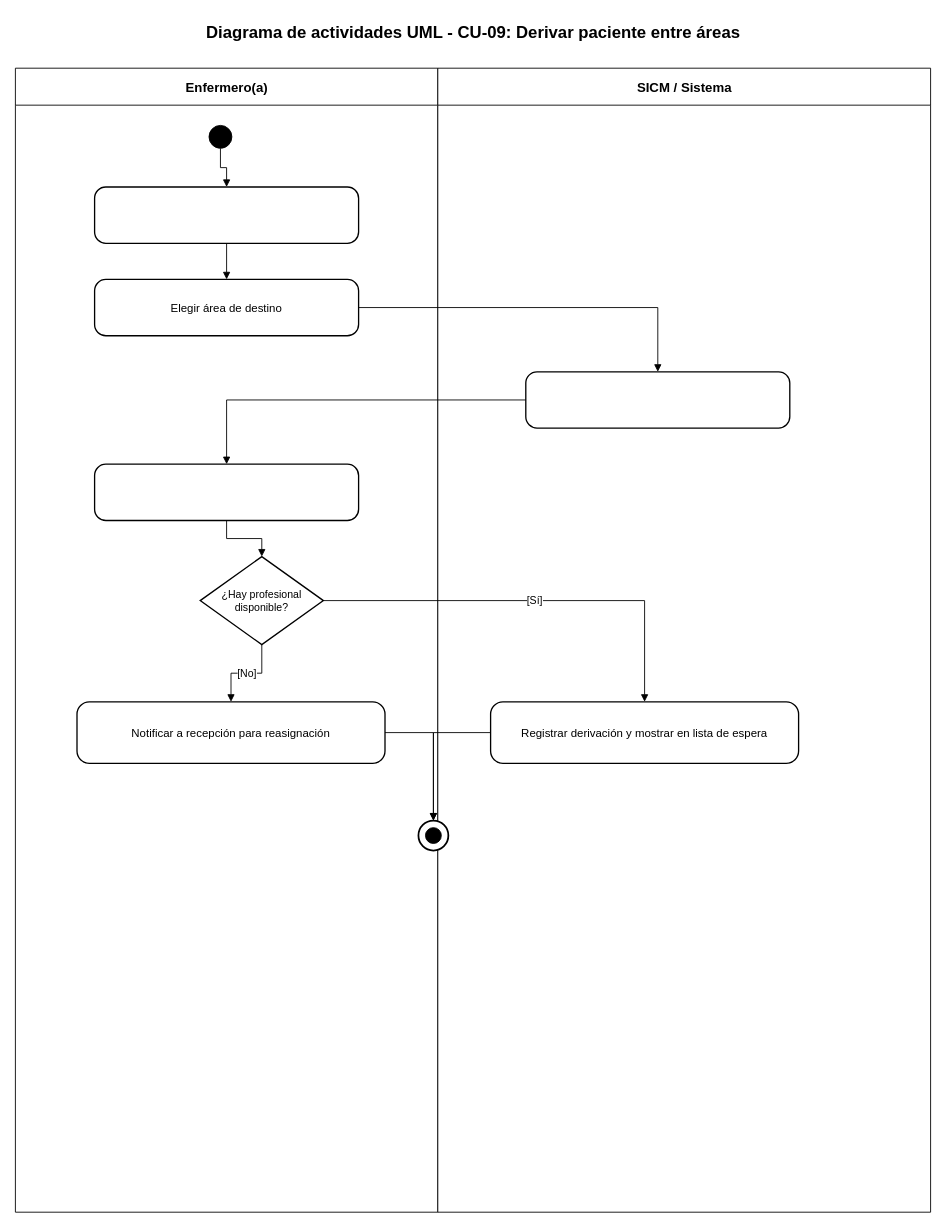
Image size: 946x1228. Some labels were removed from this diagram. The shapes that lost their labels are listed below. From the top down, each one's centre as x and y in pixels, then its label:
At [226,215]: "Seleccionar paciente atendido".
At [657,399]: "Comprobar profesional disponible".
At [226,492]: "Confirmar derivación".
